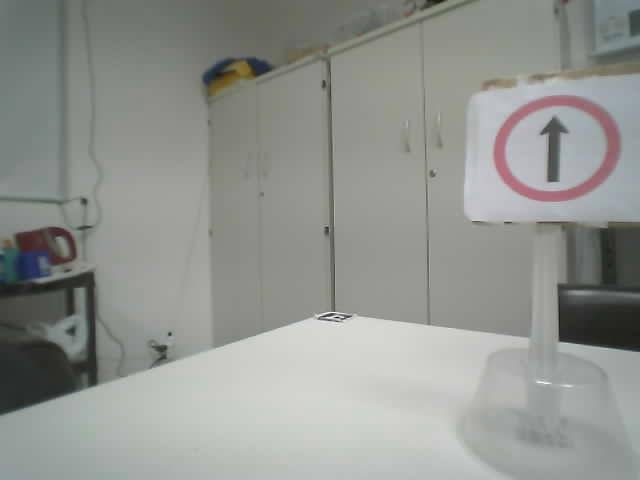R-26_frente: (492, 94, 617, 202)
